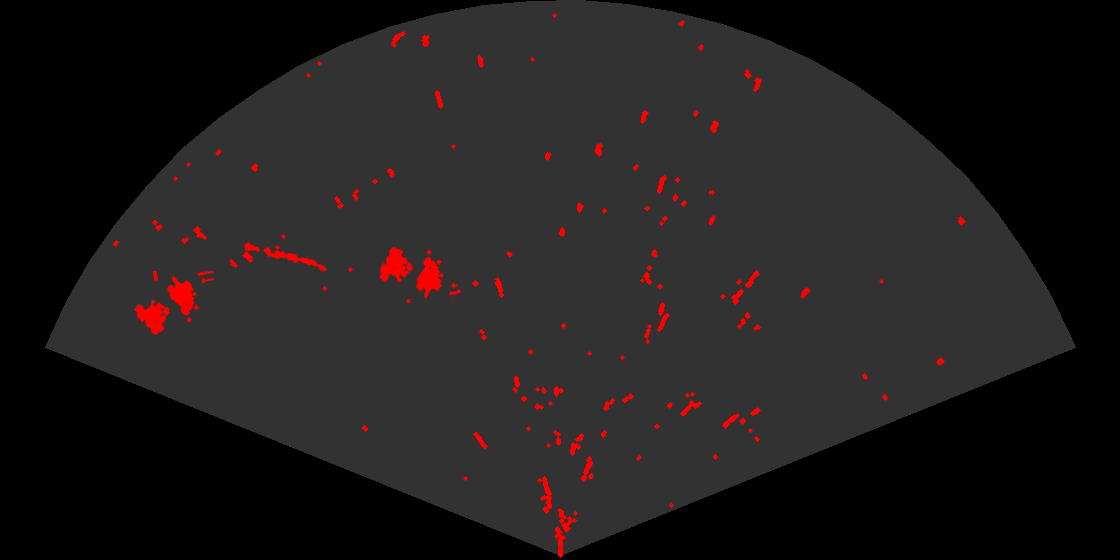cage: (133, 271, 214, 336), (377, 245, 457, 303)
chain: (241, 240, 329, 273)
